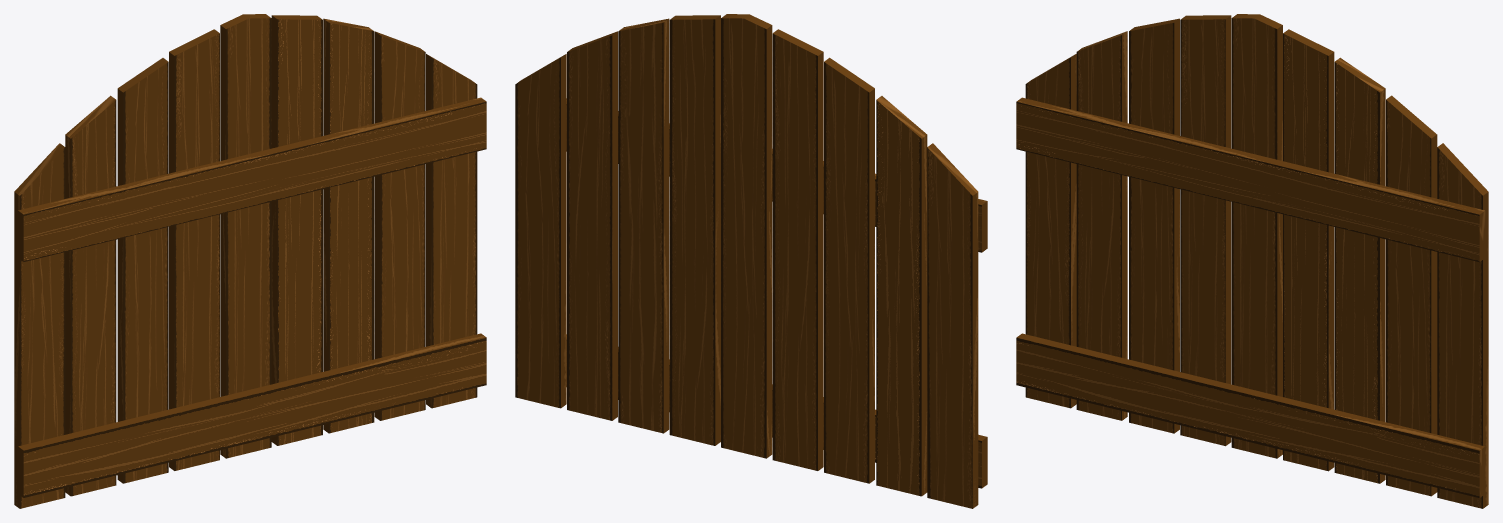
File: woodGate.fbx
3 views of the same model, side by side, from view 1: azimuth 30°, elevation 25°; view 2: azimuth 150°, elevation 25°; view 3: azimuth 330°, elevation 25° (orthographic).
Visible parts, largest first — view 1: woodGate_low; view 2: woodGate_low; view 3: woodGate_low.
Boxes of the visible parts, x1=… form: woodGate_low: x1=14, y1=14, x2=486, y2=508; woodGate_low: x1=515, y1=14, x2=987, y2=508; woodGate_low: x1=1016, y1=14, x2=1488, y2=508.
Size of the model in its own units: 542 by 486 by 24.61.
Materials: 1 (1 with a texture image).
